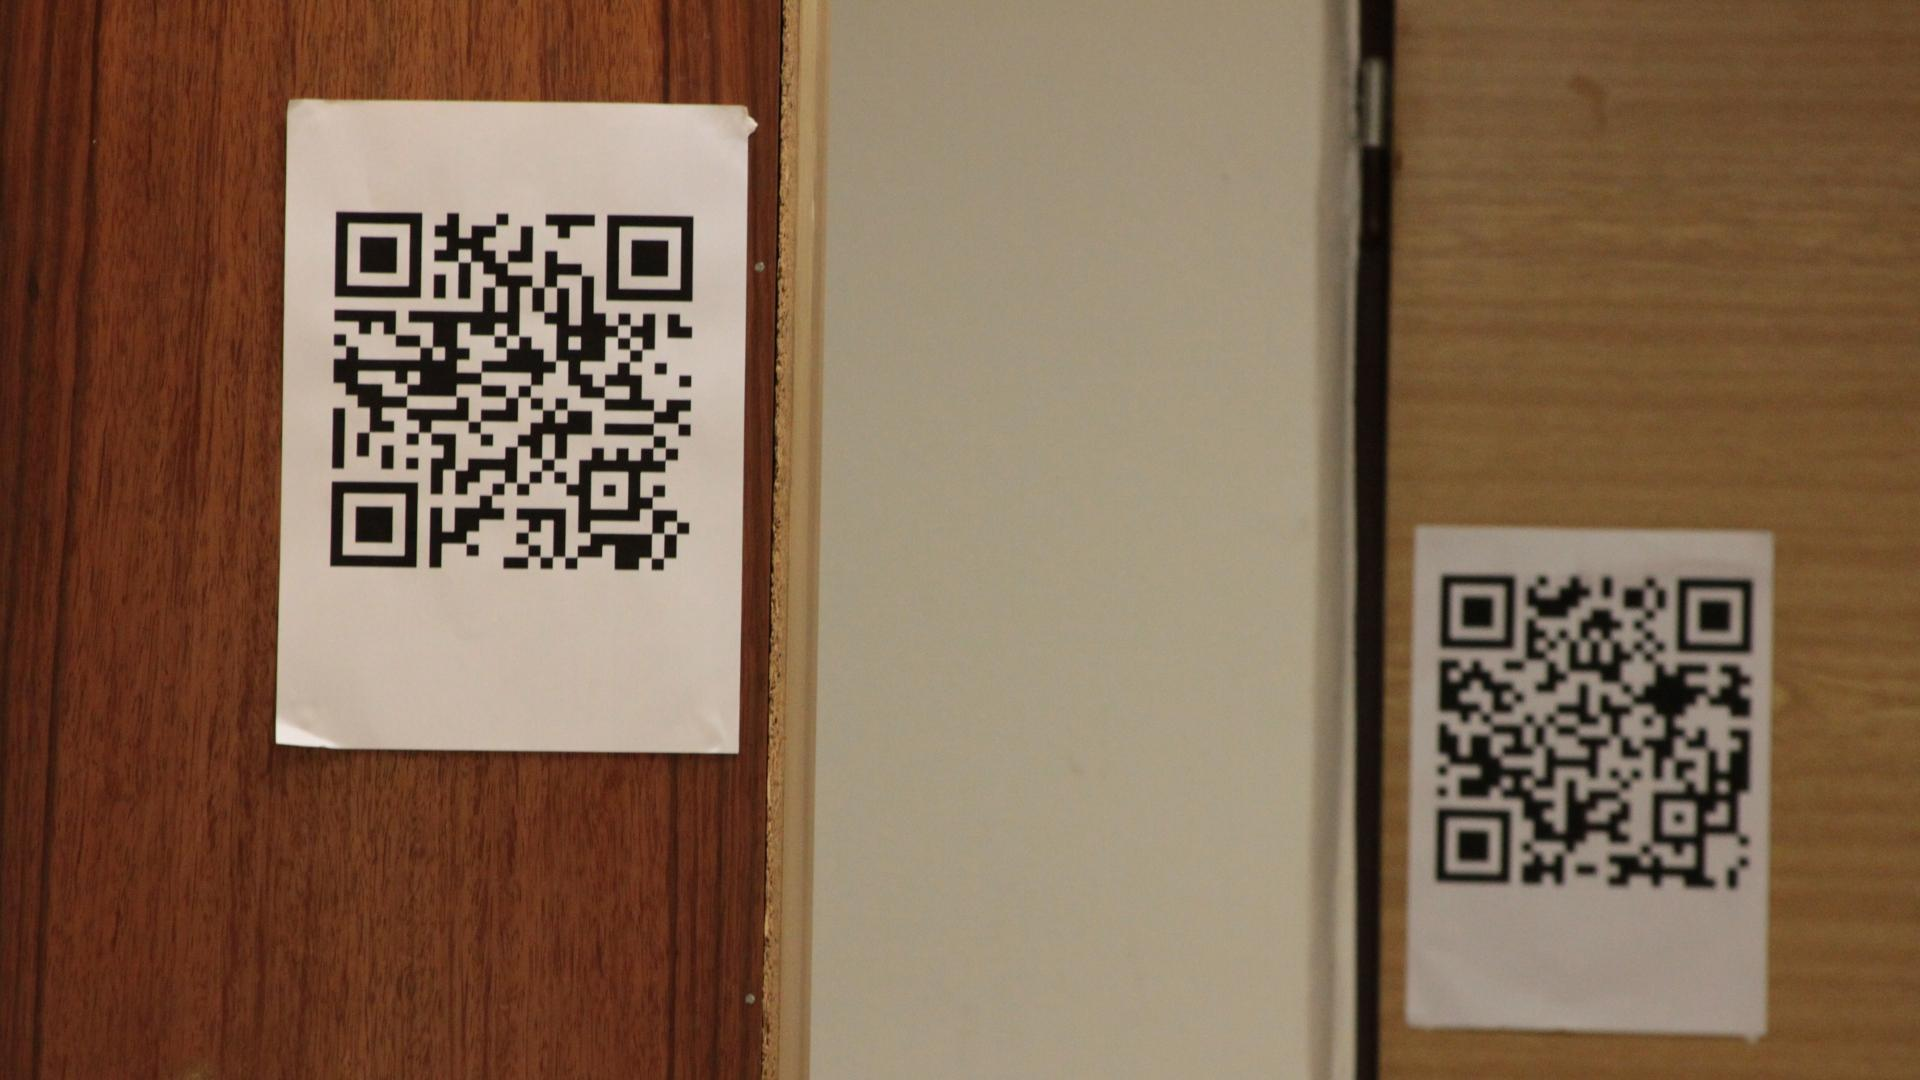Finder pattern: (326, 203, 433, 307), (601, 207, 704, 313), (324, 473, 429, 576), (1422, 798, 1523, 893), (1667, 567, 1763, 665), (1431, 568, 1522, 659)
